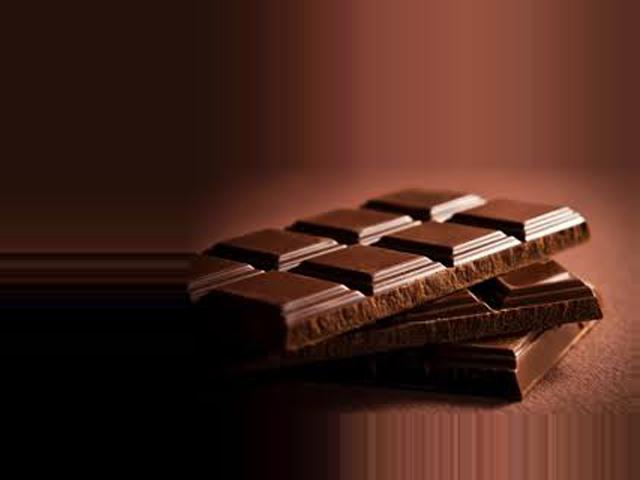chocolate: (198, 191, 598, 374)
